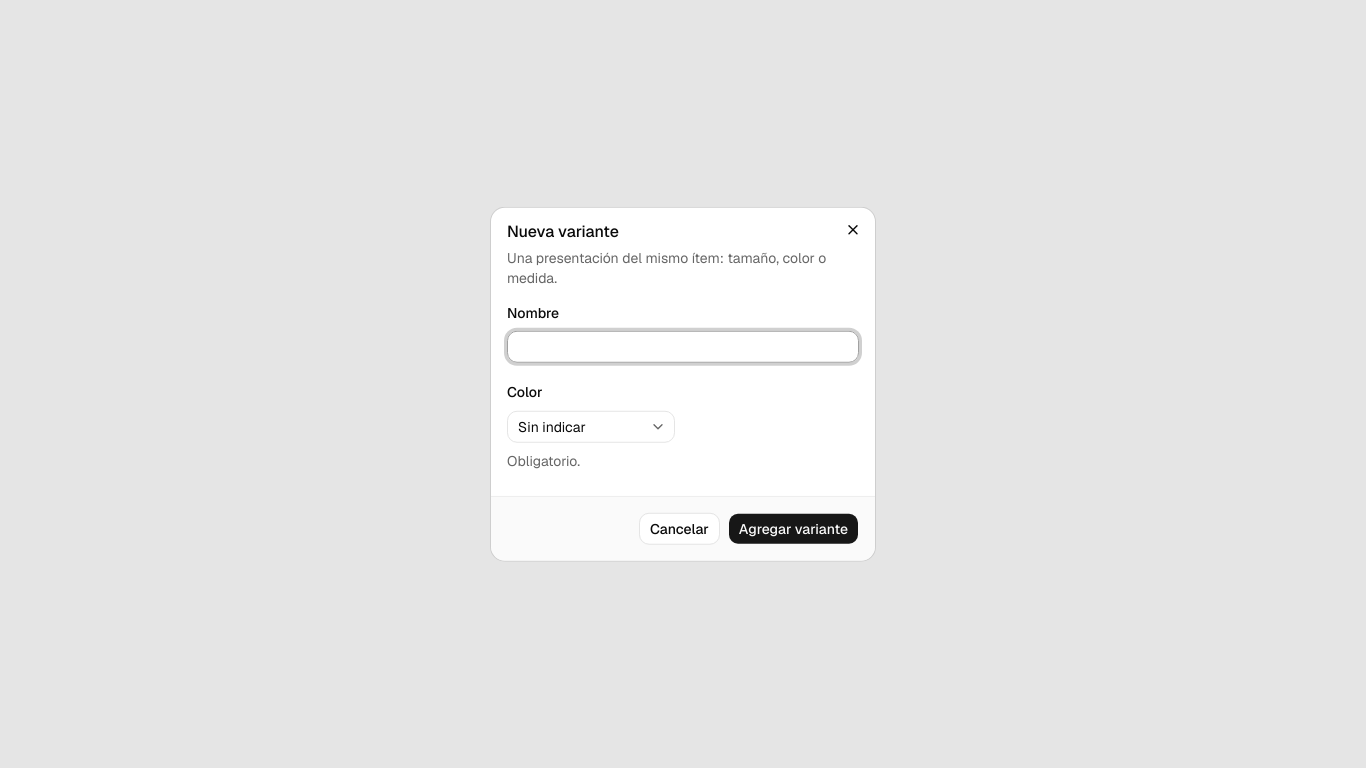
Scenario: VariantFormDialog · atributos › sin el color obligatorio no se envía y lo dice
Type "Negro" into the field labelled "Nombre" at (683, 347), box [507, 331, 859, 363]
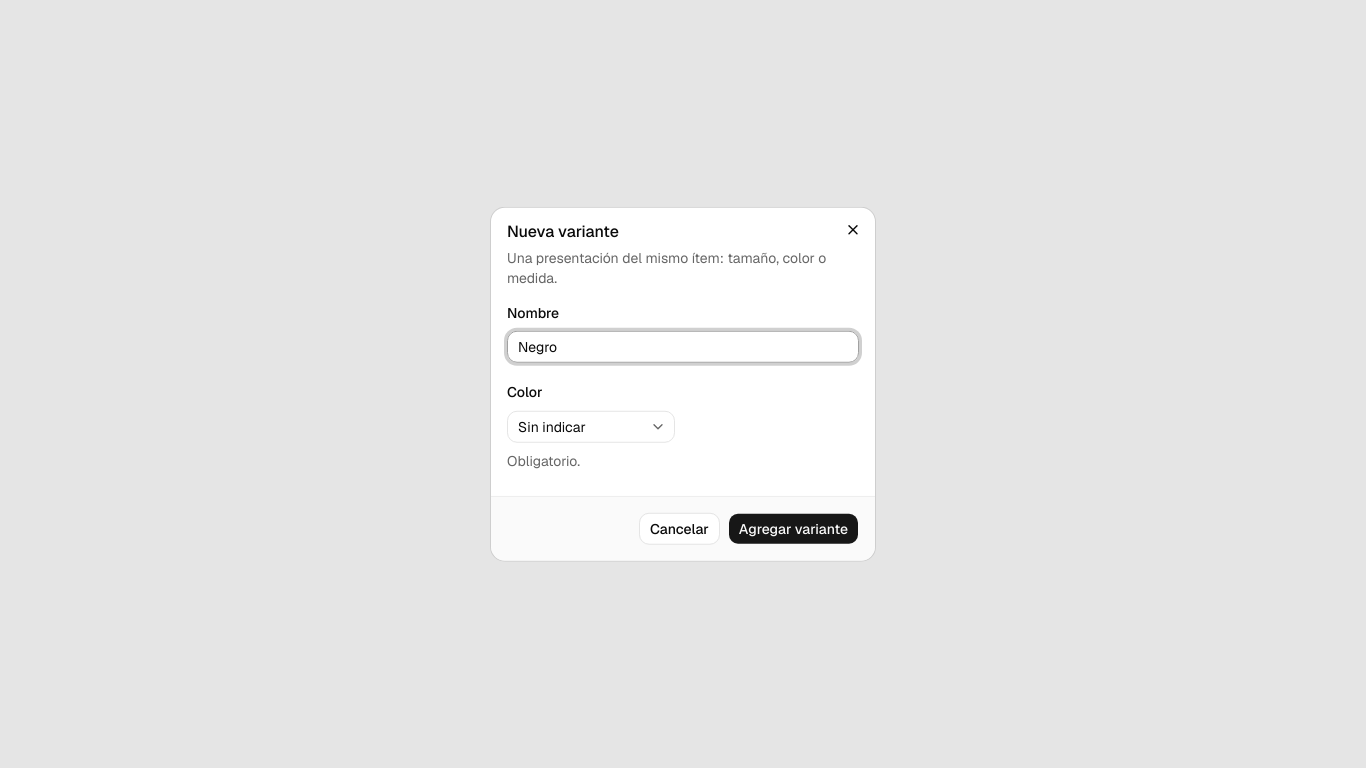
Click the button "Agregar variante" at (793, 528), box [728, 512, 859, 544]
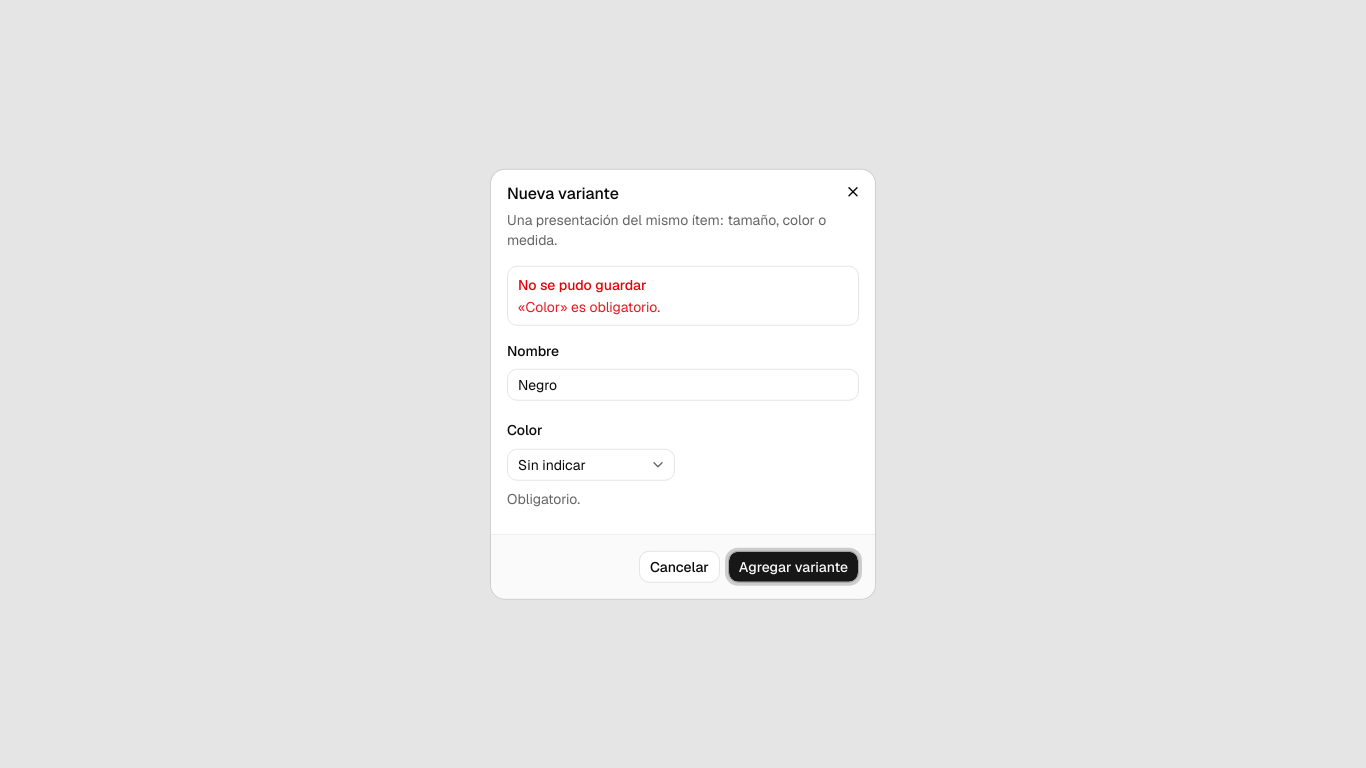
Expected: the text "«Color» es obligatorio." is shown, [518, 298, 660, 316]
